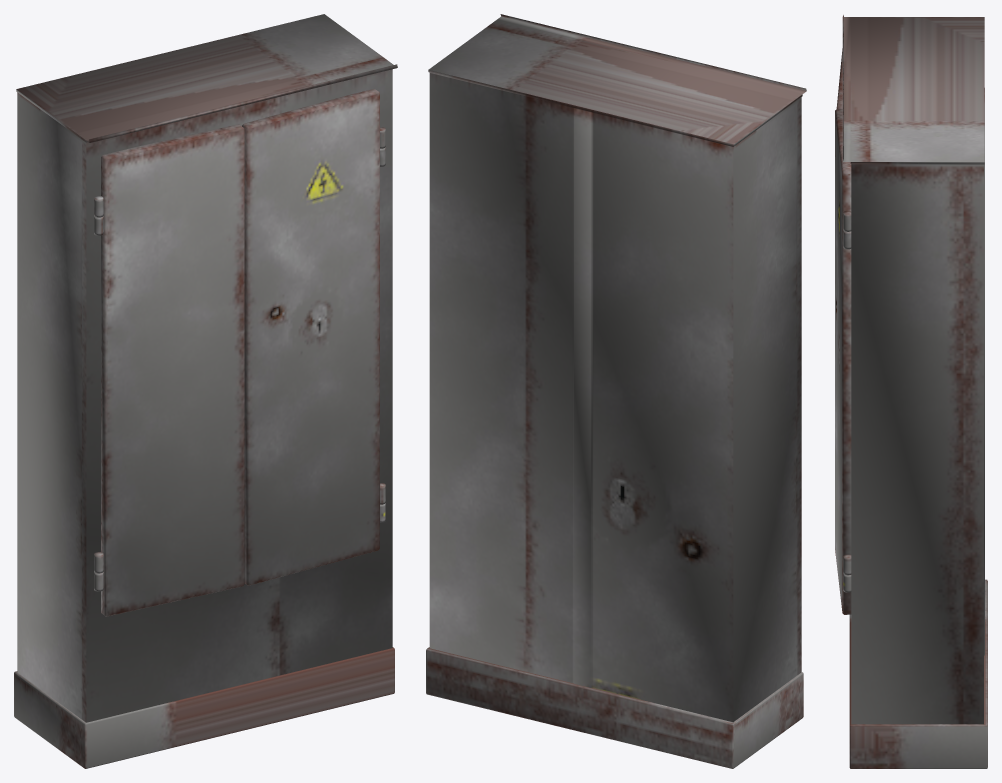
The model's file is Transformator.fbx.
3 renders of one model, left to right at view 1: azimuth 30°, elevation 25°; view 2: azimuth 150°, elevation 25°; view 3: azimuth 270°, elevation 25°, orthographic. The views are drawn at different scales.
Parts seen in each view (by area): view 1: Doors; view 2: Doors; view 3: Doors.
Boxes of the visible parts, x1,y1,x2,y2 form: Doors: (14,14,397,768); Doors: (426,14,806,768); Doors: (835,15,987,768).
Bounding box in the file's own units: 248 × 483 × 110.
1 material, 1 textured.
